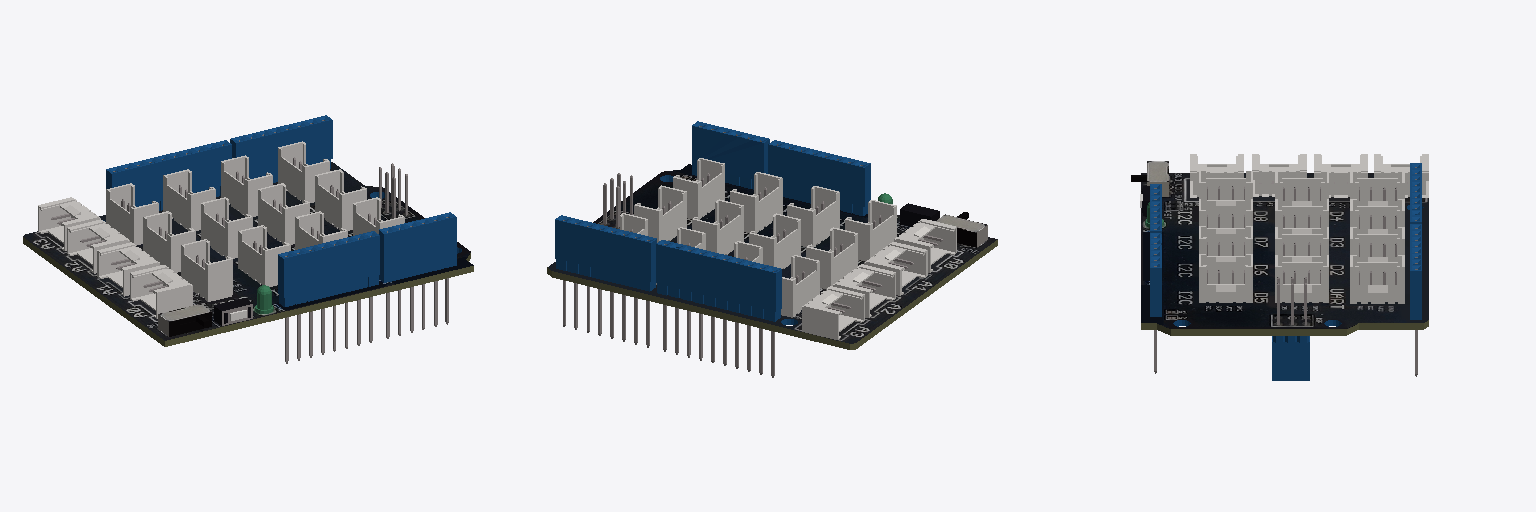
The picture shows the model from 3 angles: view 1: azimuth 30°, elevation 25°; view 2: azimuth 150°, elevation 25°; view 3: azimuth 270°, elevation 25°; orthographic projection.
Parts seen in each view (by area): view 1: BaseShield_BaseShield_Mat; view 2: BaseShield_BaseShield_Mat; view 3: BaseShield_BaseShield_Mat.
Part boxes in pixels (x1,y1,x2,y2): BaseShield_BaseShield_Mat: (23, 115, 473, 363); BaseShield_BaseShield_Mat: (547, 121, 997, 377); BaseShield_BaseShield_Mat: (1131, 154, 1428, 380).
Size of the model in its own units: 6.86 by 2.22 by 5.52.
Materials: 1 (1 with a texture image).